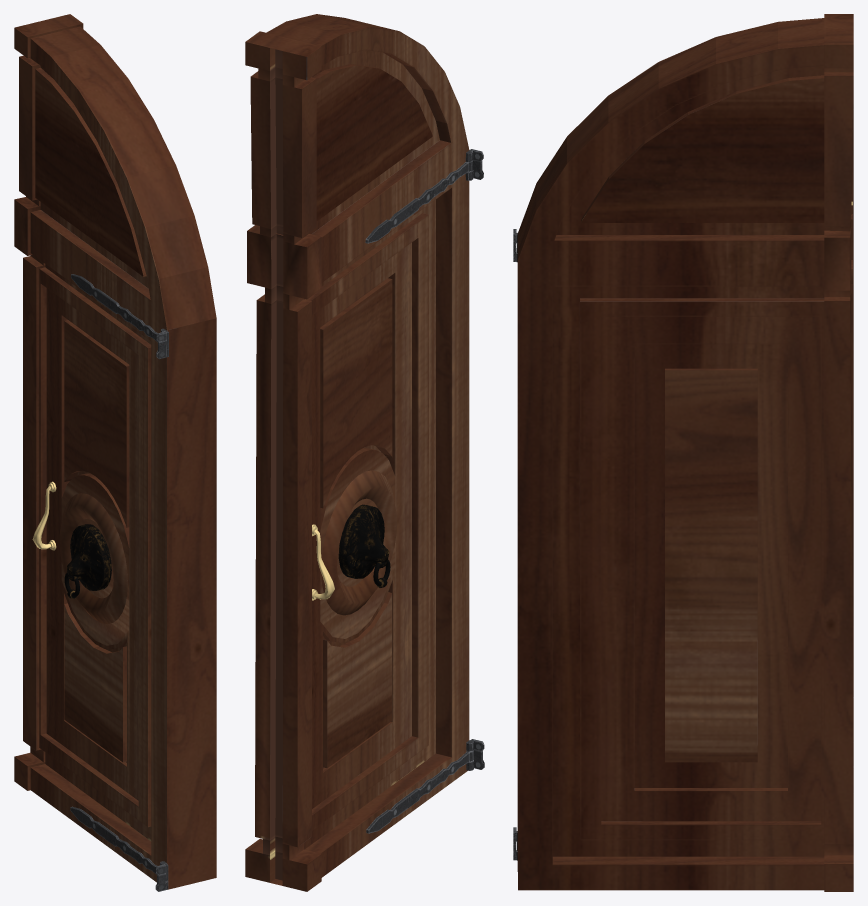
The model's file is puerta der.obj.
The picture shows the model from 3 angles, left to right: view 1: azimuth 30°, elevation 25°; view 2: azimuth 150°, elevation 25°; view 3: azimuth 270°, elevation 25°; orthographic projection. The views are drawn at different scales.
Visible parts, largest first — view 1: Door_Right.001_Door.002; view 2: Door_Right.001_Door.002; view 3: Door_Right.001_Door.002.
Boxes of the visible parts, box(x1,y1,x2,y2) form: Door_Right.001_Door.002: box(14, 14, 216, 891); Door_Right.001_Door.002: box(245, 14, 484, 891); Door_Right.001_Door.002: box(513, 14, 853, 891).
Bounding box in the file's own units: 0.3852 × 4.26 × 1.55.
